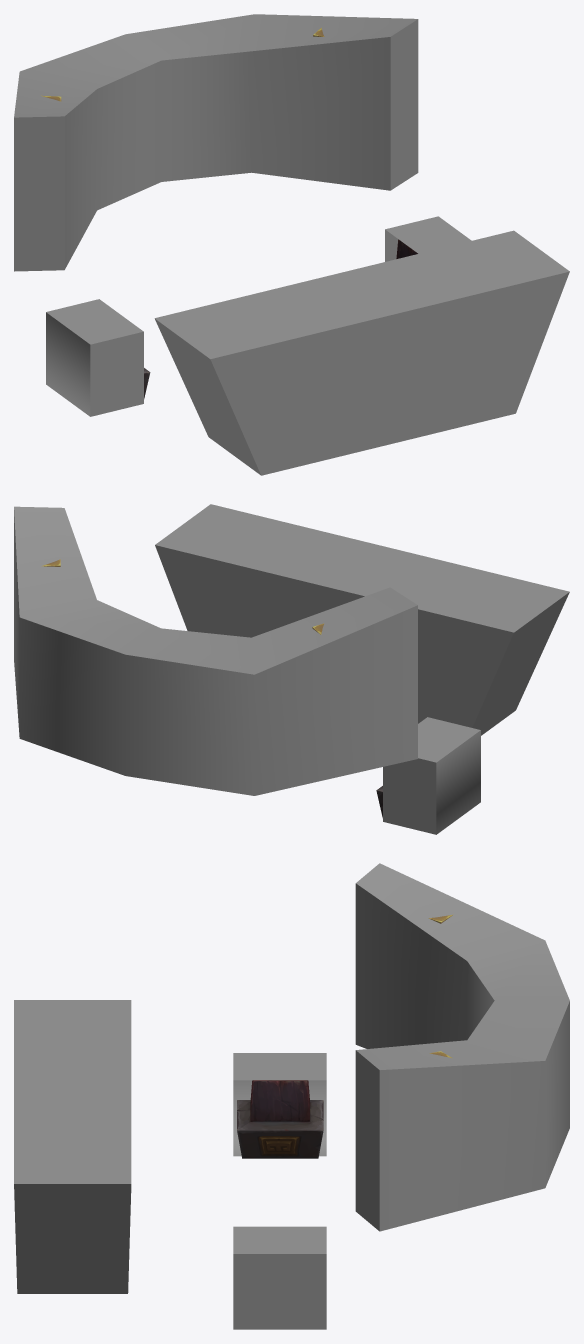
The model's file is fb_jjc_zj_02_b.FBX.
3 renders of one model, top to bottom at view 1: azimuth 30°, elevation 25°; view 2: azimuth 150°, elevation 25°; view 3: azimuth 270°, elevation 25°, orthographic. The views are drawn at different scales.
Parts seen in each view (by area): view 1: col_fb_jjc_zj_02_b; view 2: col_fb_jjc_zj_02_b; view 3: col_fb_jjc_zj_02_b, fb_jjc_zj_02_b.
Boxes of the visible parts, x1,y1,x2,y2 form: col_fb_jjc_zj_02_b: (14,14,569,475); col_fb_jjc_zj_02_b: (14,504,569,834); col_fb_jjc_zj_02_b: (14,863,569,1329); fb_jjc_zj_02_b: (237,914,453,1158).
Bounding box in the file's own units: 1020 × 603 × 1158.
